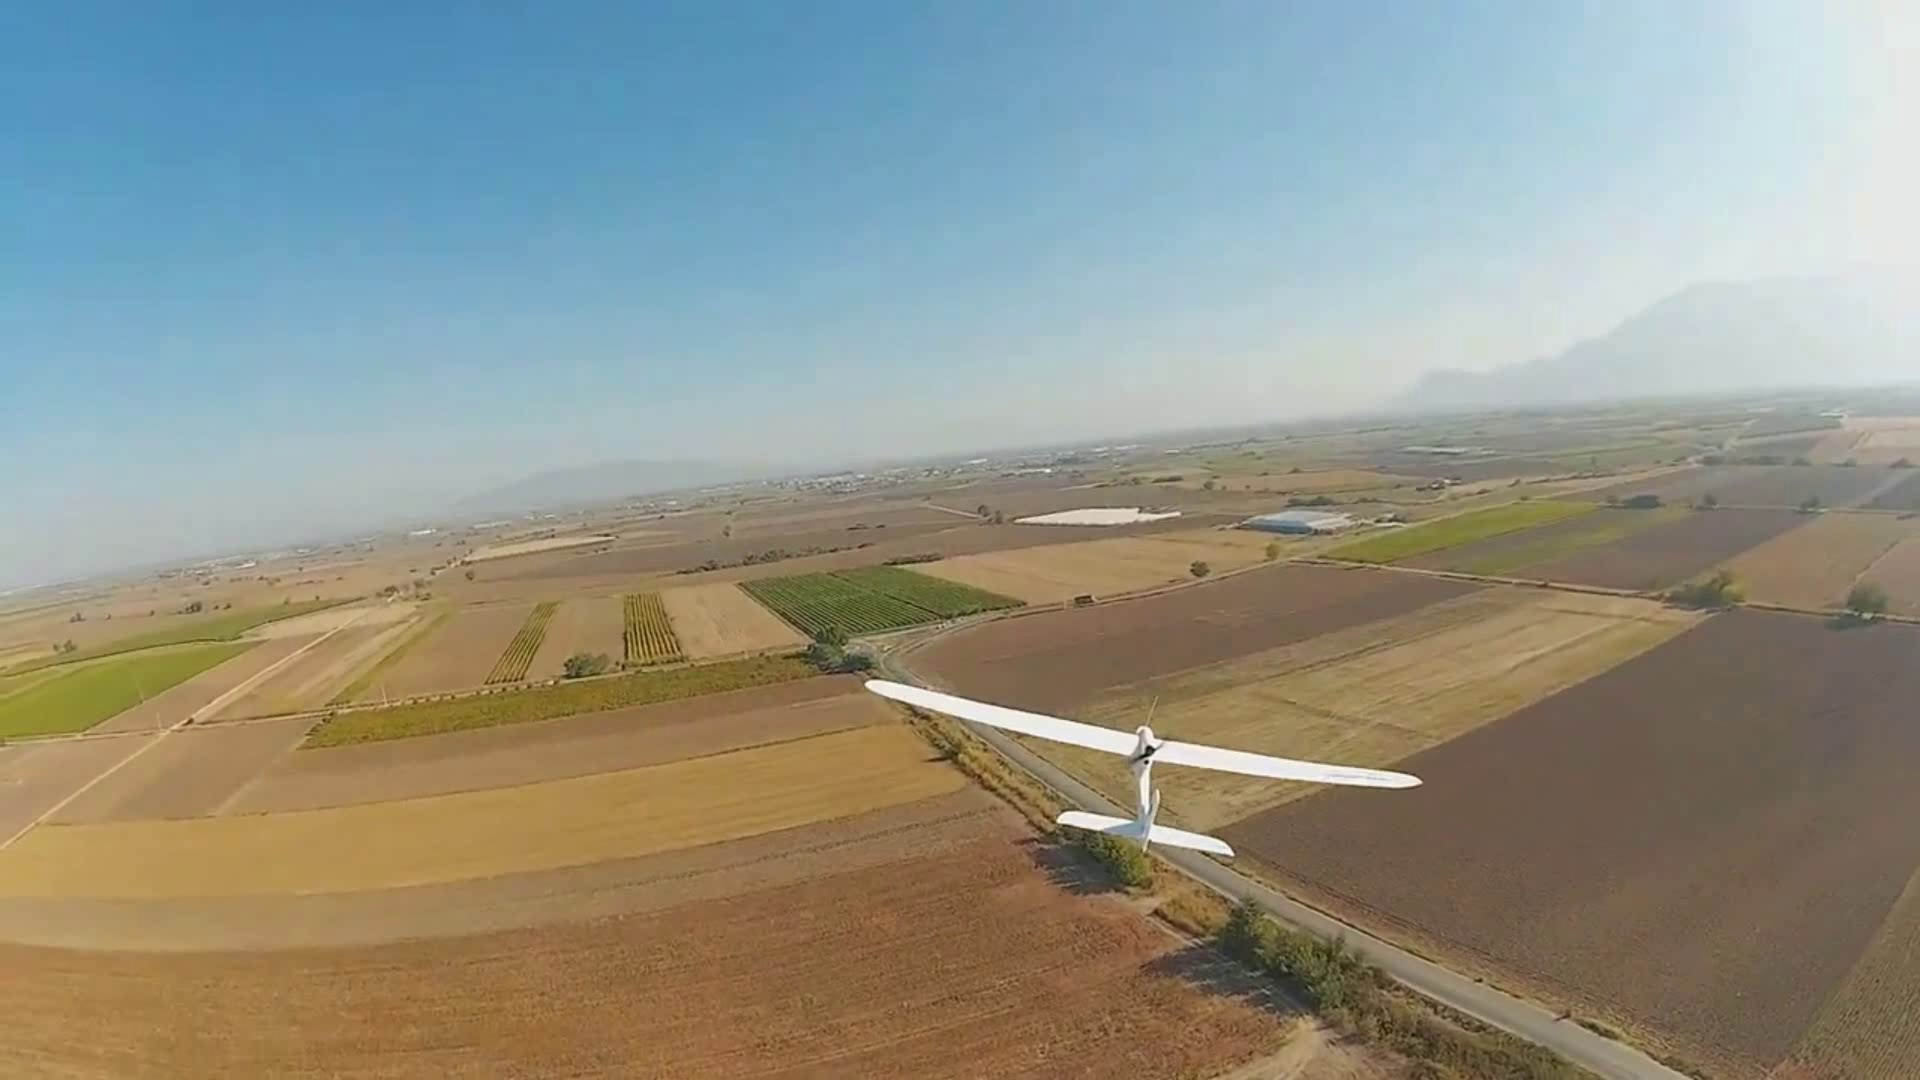airplane: (862, 669, 1713, 1069)
